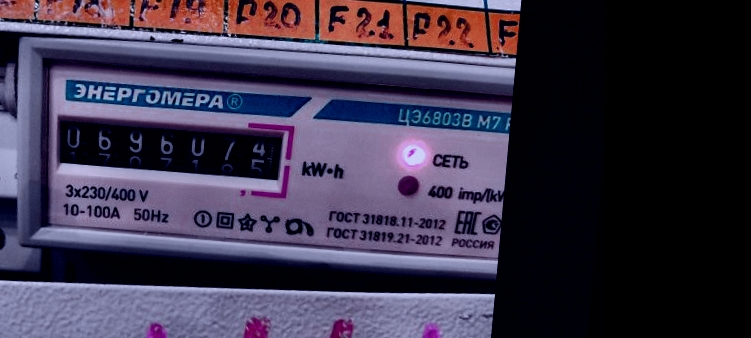0: (62, 122, 83, 149), (188, 130, 206, 158)
4: (250, 135, 266, 157)
5: (249, 157, 264, 177)
6: (93, 124, 114, 150), (157, 128, 175, 156)
7: (219, 134, 237, 162)
9: (125, 127, 144, 154)
screen: (46, 101, 297, 200)
